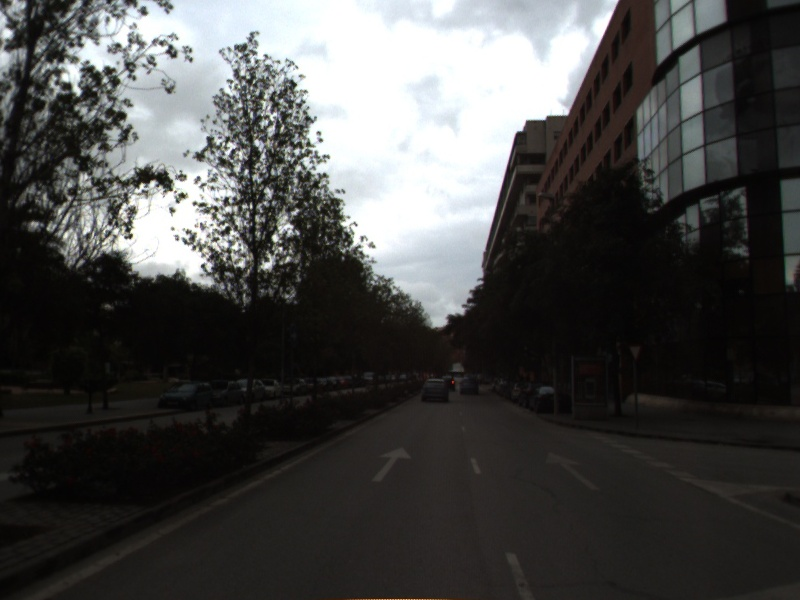STRAIGHT: (543, 450, 603, 492), (369, 444, 414, 484)
